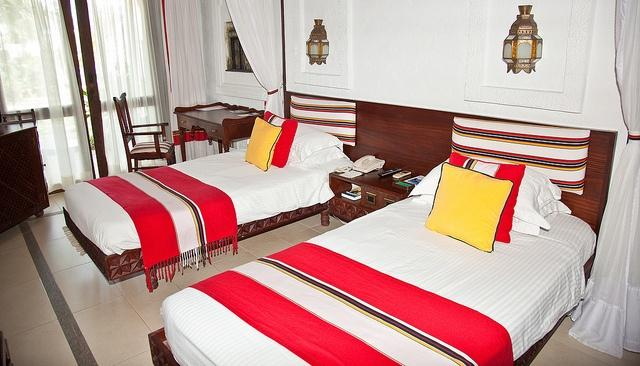Kursi: (111, 91, 176, 172)
